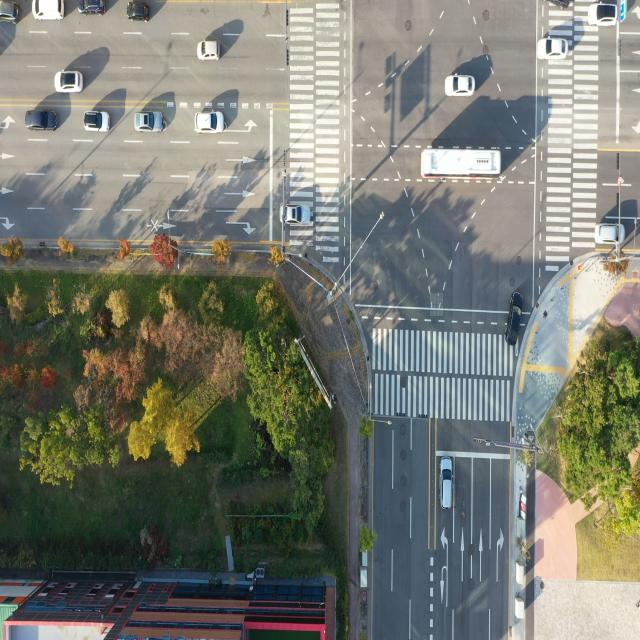car: (503, 289, 524, 341), (534, 36, 570, 60), (441, 456, 456, 512), (24, 109, 58, 133), (447, 75, 478, 101), (594, 222, 626, 246), (282, 202, 314, 226), (31, 0, 67, 21), (586, 4, 617, 28), (133, 112, 164, 136), (194, 111, 221, 133), (84, 110, 110, 132), (198, 35, 221, 59), (126, 0, 150, 23), (0, 0, 19, 26), (78, 0, 105, 17)
large_bus: (421, 146, 502, 181)
